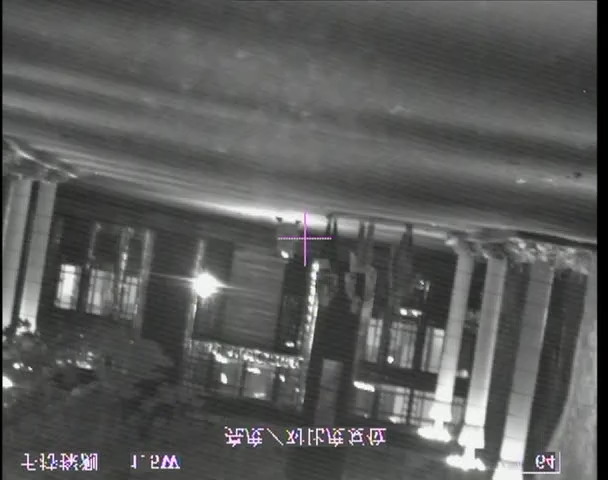my: (279, 248, 289, 259)
